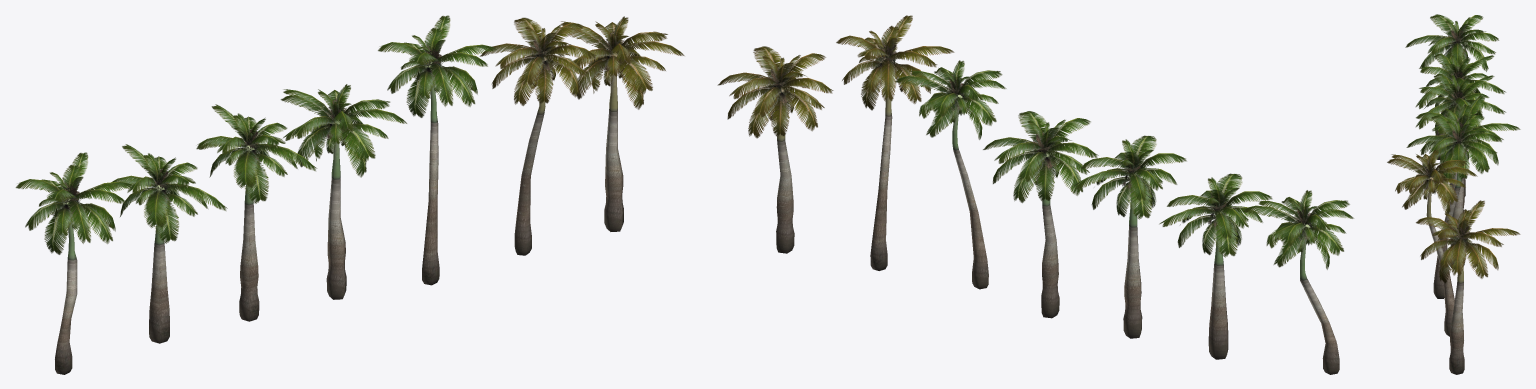
The model's file is LowPoly_Palms.glb.
3 views of the same model, side by side, from view 1: azimuth 30°, elevation 25°; view 2: azimuth 150°, elevation 25°; view 3: azimuth 270°, elevation 25° (orthographic). The views are drawn at different scales.
Visible parts, largest first — view 1: Palm1_VAR4, Palm1_VAR5, Palm1_VARCol2, Palm1_VARCol1, Palm1_VAR1, Palm1_VAR3, Palm1_VAR2; view 2: Palm1_VARCol2, Palm1_VAR4, Palm1_VARCol1, Palm1_VAR3, Palm1_VAR2, Palm1_VAR5, Palm1_VAR1; view 3: Palm1_VARCol2, Palm1_VARCol1, Palm1_VAR5, Palm1_VAR1, Palm1_VAR4, Palm1_VAR3, Palm1_VAR2.
Part boxes in pixels (x1,y1,x2,y2): Palm1_VAR4: (280,84,406,299); Palm1_VAR5: (378,15,496,285); Palm1_VARCol2: (560,16,684,231); Palm1_VARCol1: (480,17,596,255); Palm1_VAR1: (15,152,132,374); Palm1_VAR3: (196,104,317,321); Palm1_VAR2: (108,144,227,343); Palm1_VARCol2: (717,46,833,253); Palm1_VAR4: (983,111,1098,318); Palm1_VARCol1: (836,15,954,270); Palm1_VAR3: (1073,135,1186,338); Palm1_VAR2: (1159,173,1272,359); Palm1_VAR5: (895,60,1006,289); Palm1_VAR1: (1242,190,1353,374); Palm1_VARCol2: (1416,200,1520,374); Palm1_VARCol1: (1387,149,1477,336); Palm1_VAR5: (1406,114,1500,298); Palm1_VAR1: (1405,14,1498,159); Palm1_VAR4: (1416,95,1520,268); Palm1_VAR3: (1415,74,1506,218); Palm1_VAR2: (1415,53,1506,196).
Bounding box in the file's own units: 19.3 × 6.68 × 4.49.
2 materials, 2 textured.
